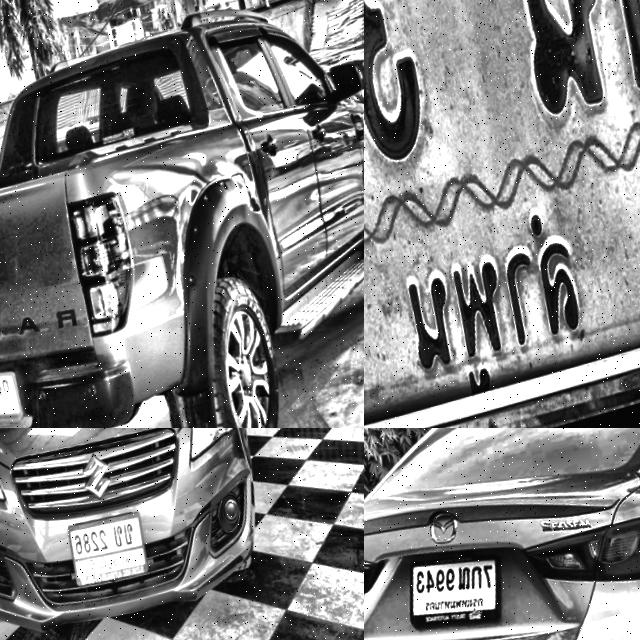license-plate: (364, 0, 640, 428), (67, 510, 159, 595), (410, 550, 503, 628), (0, 365, 29, 428)
